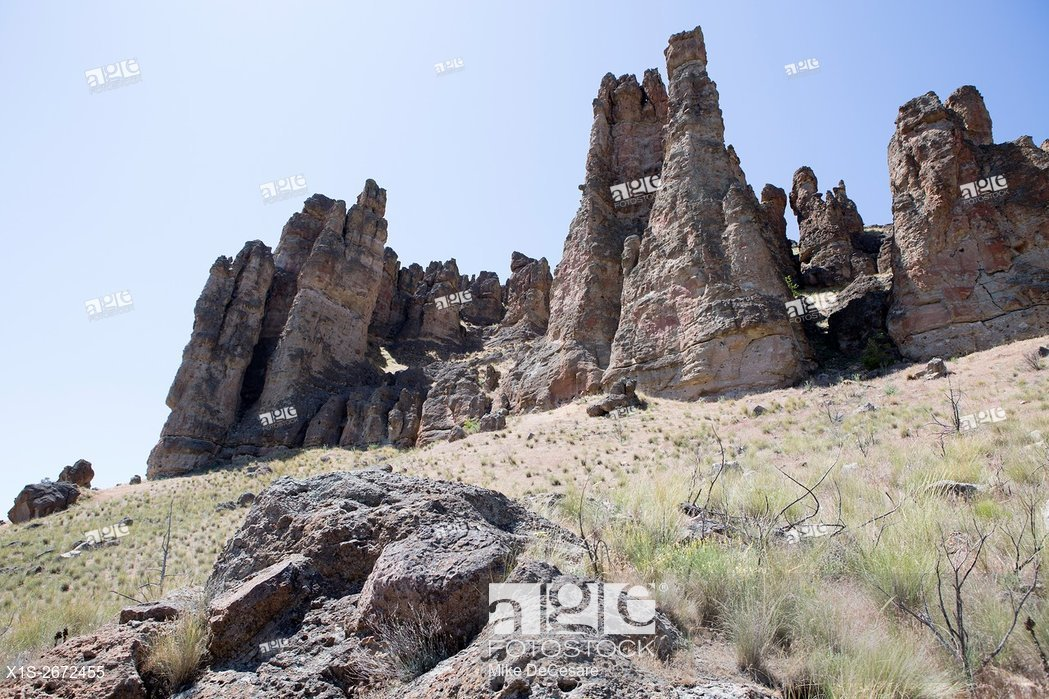volcanic_rock: (156, 194, 573, 448), (552, 32, 824, 404), (233, 490, 505, 622), (352, 522, 533, 650)
